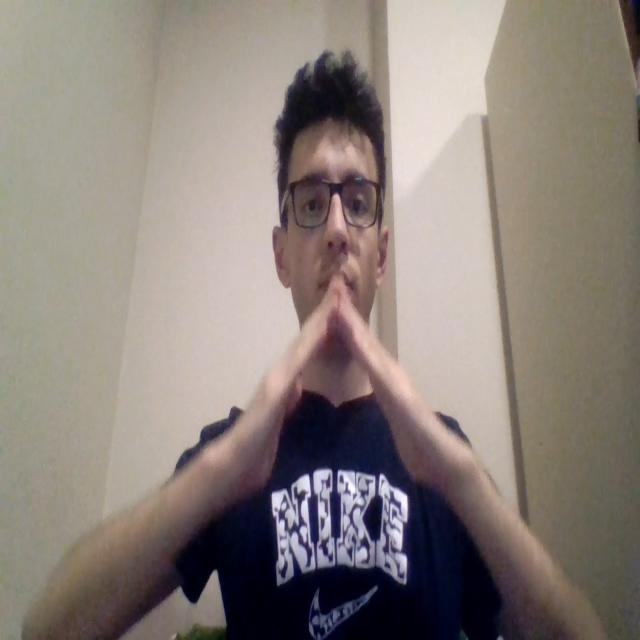house: (238, 286, 439, 489)
